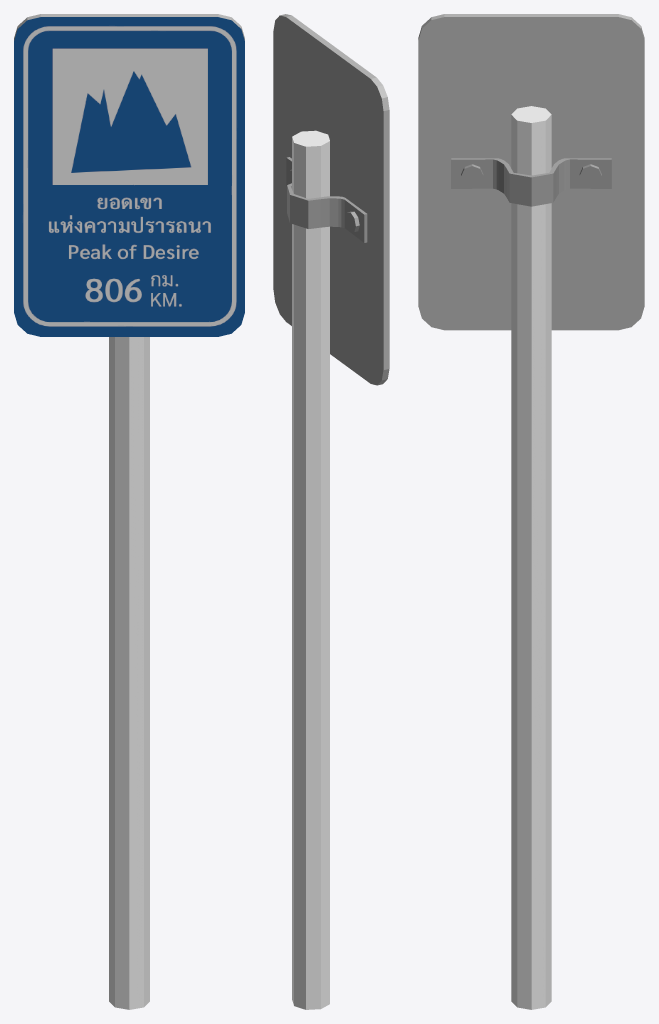
The model's file is misMtSign.glb.
The picture shows the model from 3 angles, left to right: view 1: azimuth 90°, elevation 25°; view 2: azimuth 210°, elevation 25°; view 3: azimuth 270°, elevation 25°; orthographic projection. The views are drawn at different scales.
Parts seen in each view (by area): view 1: Plane, Cylinder; view 2: Cylinder, Plane; view 3: Plane, Cylinder.
Part boxes in pixels (box(x1,y1,x2,y2)): Plane: box(14, 14, 244, 336); Cylinder: box(109, 337, 149, 1009); Cylinder: box(286, 130, 367, 1009); Plane: box(273, 14, 389, 385); Plane: box(418, 14, 644, 330); Cylinder: box(451, 106, 611, 1009).
Bounding box in the file's own units: 0.3108 × 6.34 × 1.33.
Materials: 3 (1 with a texture image).
